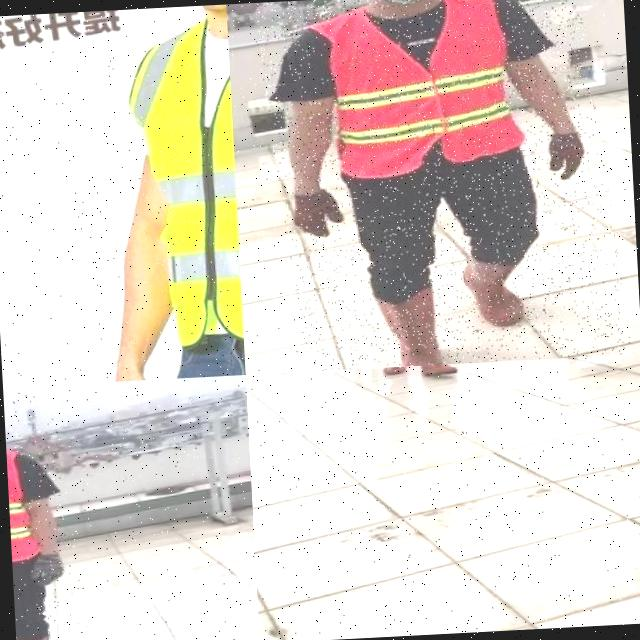boots: (372, 288, 452, 368), (458, 248, 528, 332), (418, 364, 462, 379), (16, 628, 69, 640)
vest: (106, 4, 244, 360), (312, 0, 528, 184)
